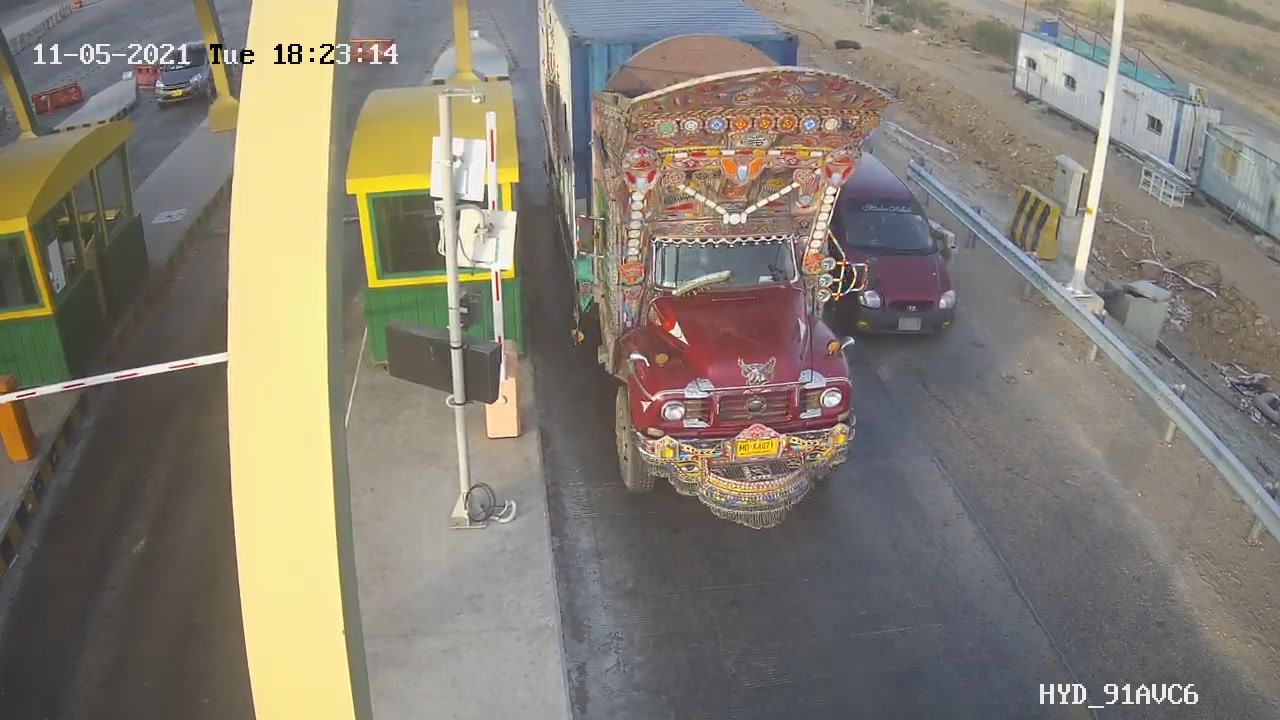F5: (548, 4, 879, 529)
